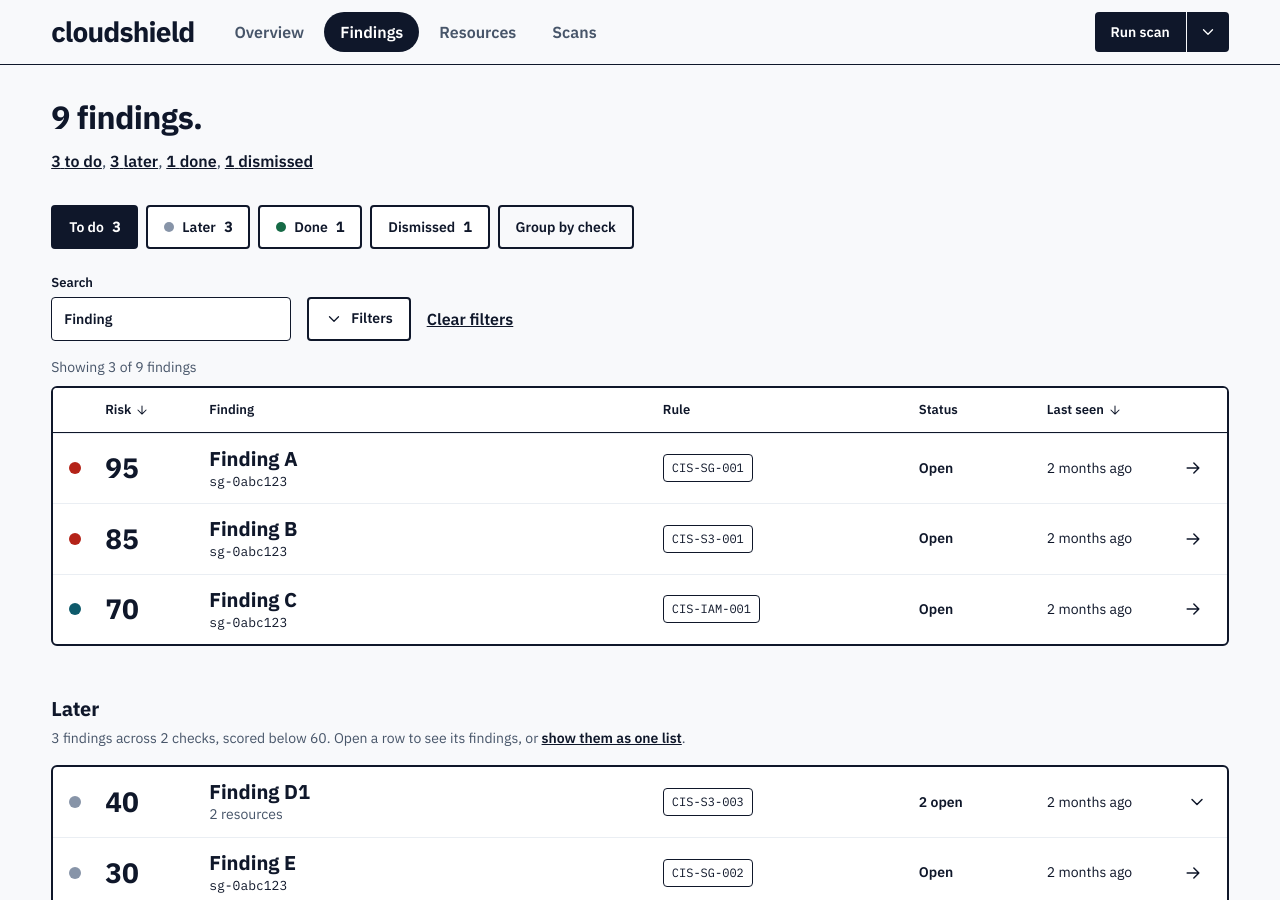
Test: Findings: the Filters fold › does not count the search box, but still offers Clear filters for it
Check: the table named "Findings" is shown, box [53,388,1227,644]
Check: the button "Filters" is shown, box [307,296,411,340]
Click the button "Clear filters". click: point(470, 318)
box: [427,296,513,340]
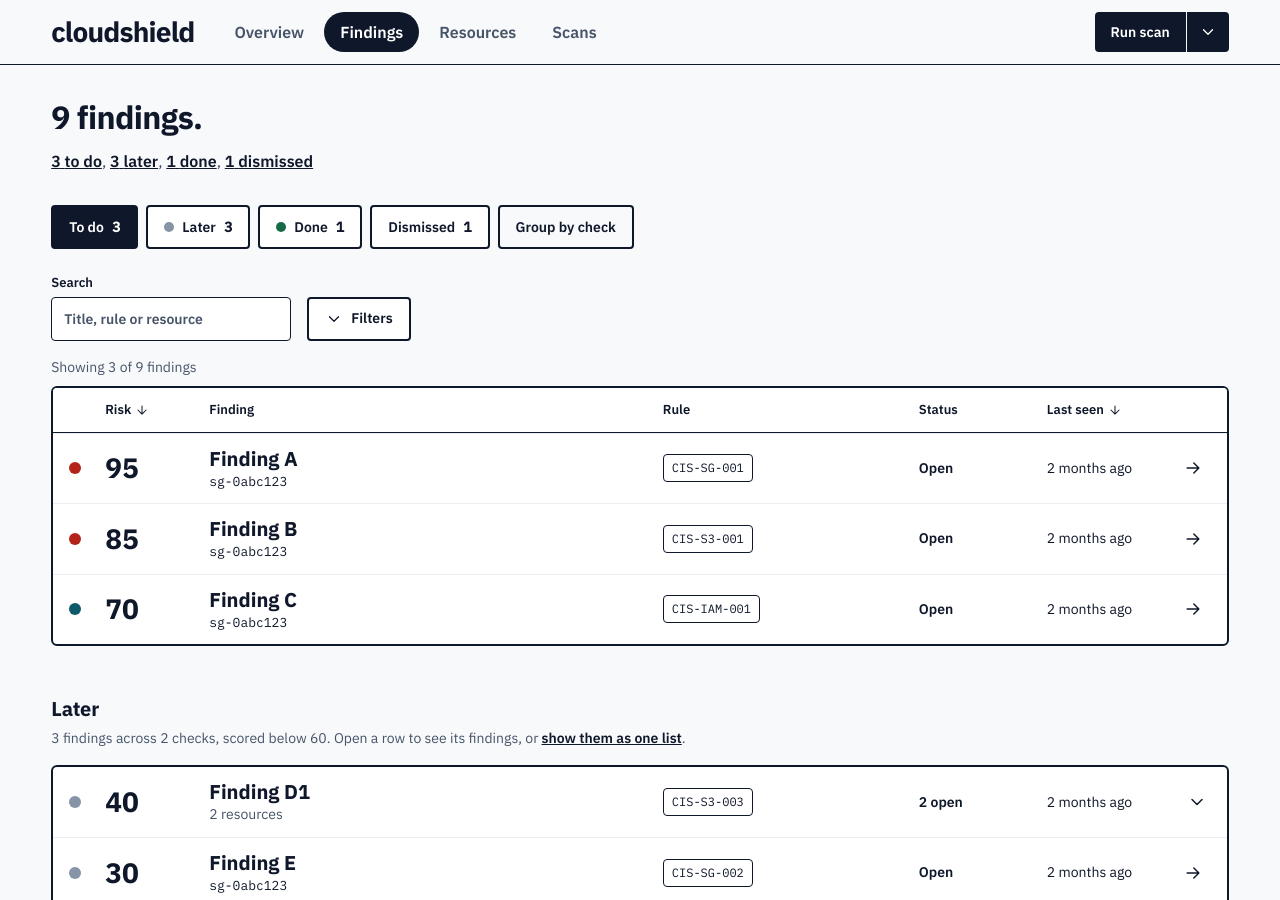
Check: the search field labelled "Search" is empty, box [51,296,291,340]
Check: the button "Clear filters" is gone
